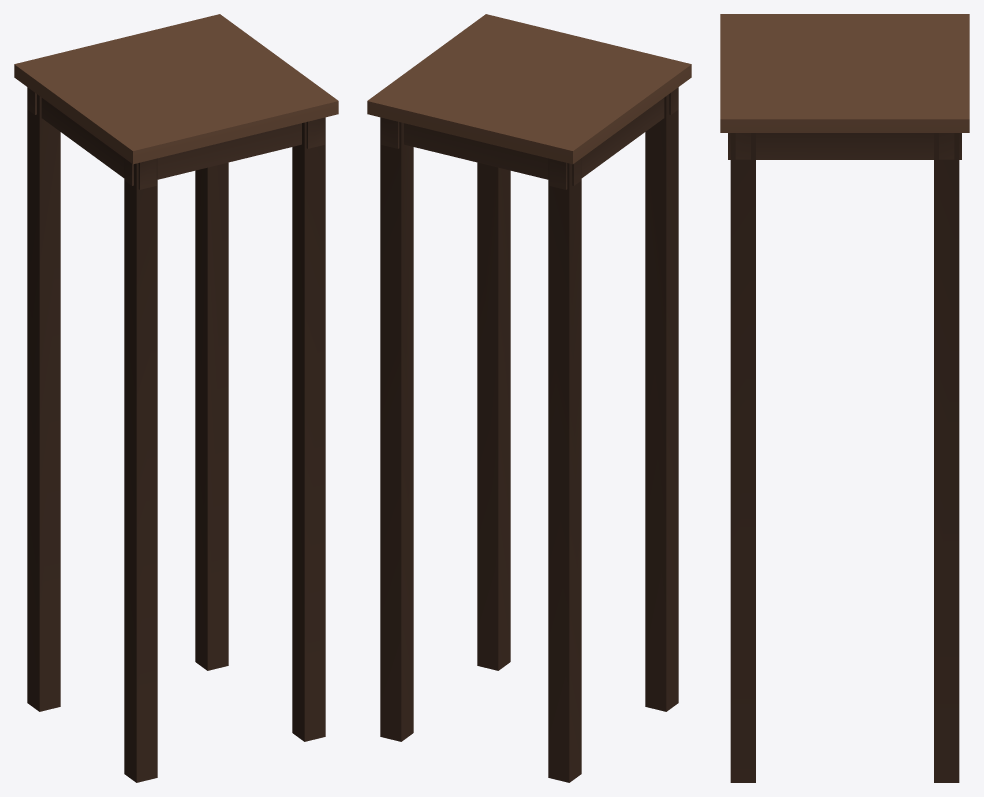
The model's file is qb_landing_wood_lod1.glb.
The picture shows the model from 3 angles, left to right: view 1: azimuth 30°, elevation 25°; view 2: azimuth 150°, elevation 25°; view 3: azimuth 270°, elevation 25°; orthographic projection. The views are drawn at different scales.
Visible parts, largest first — view 1: qb_landing_wood; view 2: qb_landing_wood; view 3: qb_landing_wood.
Boxes of the visible parts, x1,y1,x2,y2 form: qb_landing_wood: [14, 14, 338, 782]; qb_landing_wood: [367, 14, 691, 782]; qb_landing_wood: [720, 14, 969, 782].
Bounding box in the file's own units: 0.98 × 2.9 × 0.98.
